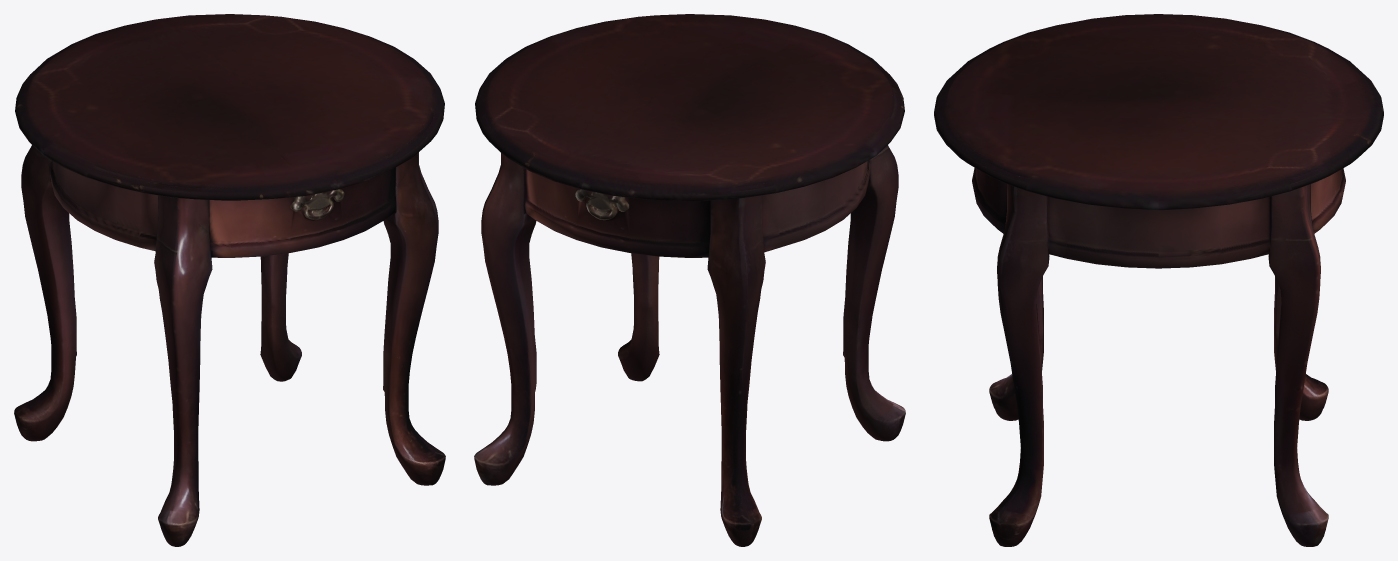
File: Table_End_Wood_Round_20InchesTall_0222192316_texture.glb
3 renders of one model, left to right at view 1: azimuth 30°, elevation 25°; view 2: azimuth 150°, elevation 25°; view 3: azimuth 270°, elevation 25°, orthographic. The views are drawn at different scales.
Visible parts, largest first — view 1: Mesh_0; view 2: Mesh_0; view 3: Mesh_0.
Boxes of the visible parts, left/top/right/bottom form: Mesh_0: left=14, top=14, right=445, bottom=546; Mesh_0: left=474, top=14, right=905, bottom=546; Mesh_0: left=934, top=14, right=1383, bottom=546.
Bounding box in the file's own units: 0.551 × 0.508 × 0.551.
1 material, 1 textured.
